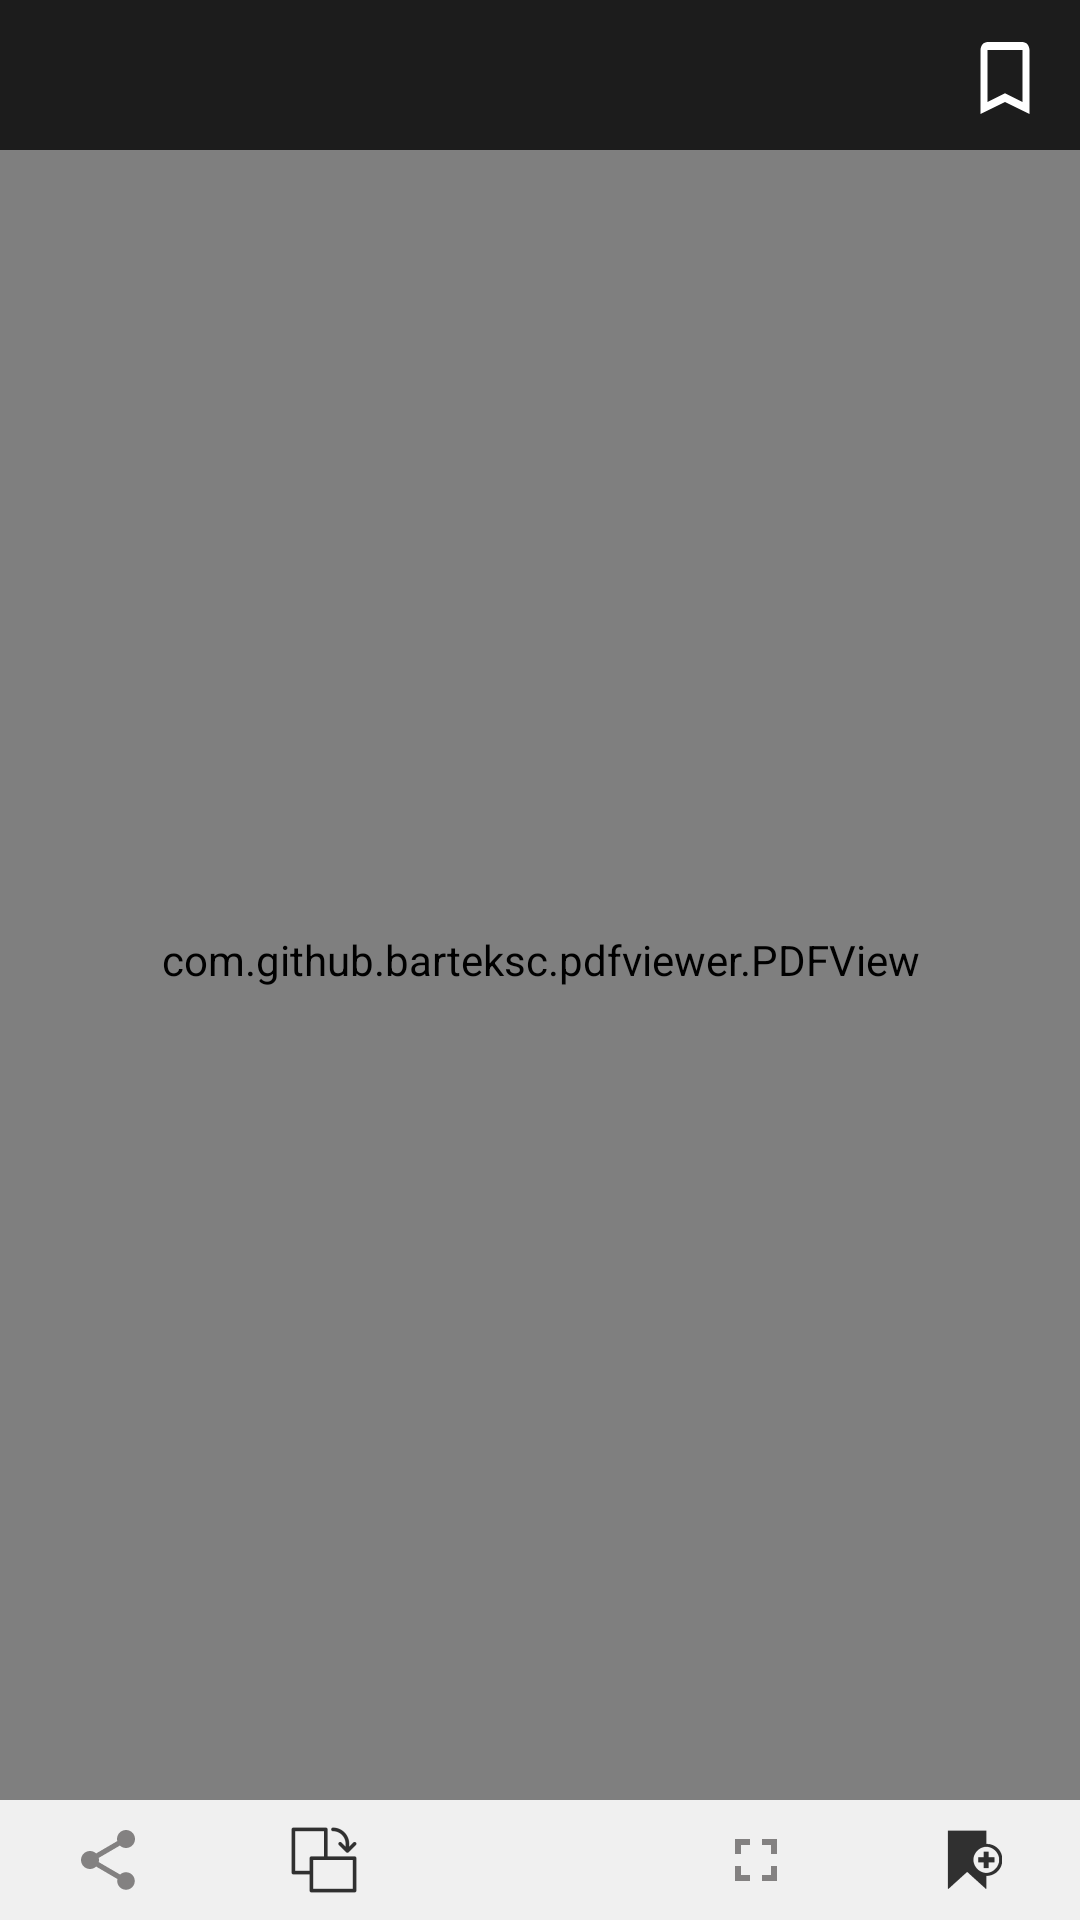

Icons on this 1080×1920 Android screen, each with the point to tap as point (x, y):
add bookmarks: point (975, 1859)
bookmark border: point (1005, 78)
fullscreen: point (756, 1860)
share: point (108, 1860)
